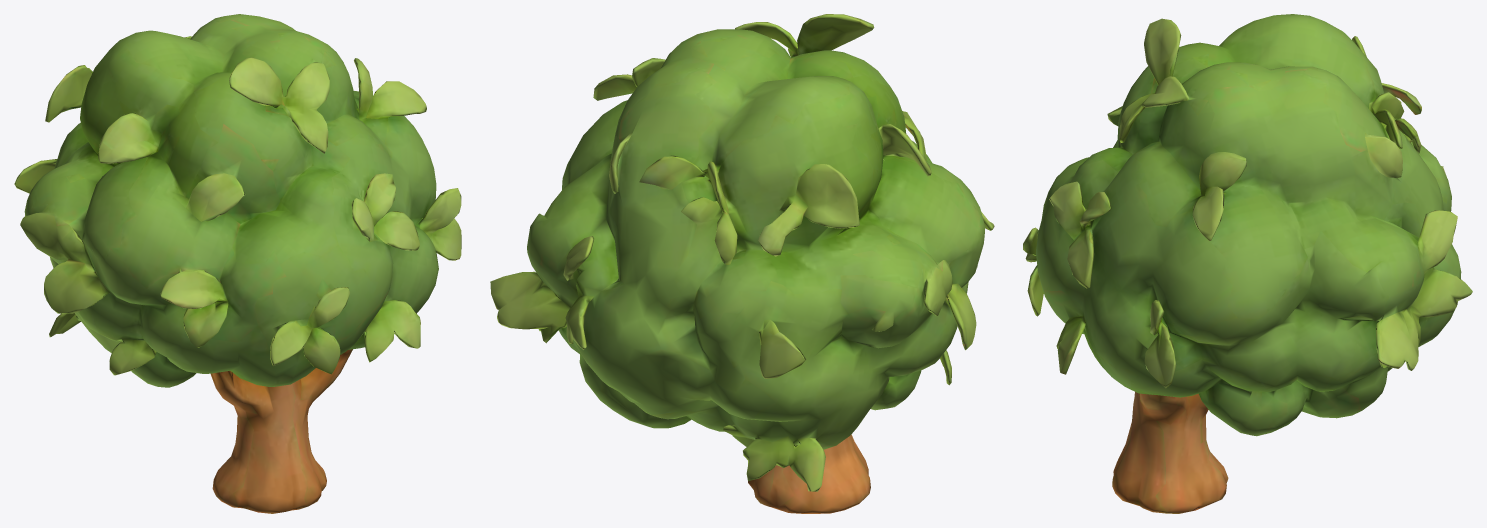
The model's file is tangerine.glb.
The picture shows the model from 3 angles, left to right: view 1: azimuth 30°, elevation 25°; view 2: azimuth 150°, elevation 25°; view 3: azimuth 270°, elevation 25°; orthographic projection. The views are drawn at different scales.
Parts seen in each view (by area): view 1: textured_mesh.obj; view 2: textured_mesh.obj; view 3: textured_mesh.obj.
Boxes of the visible parts, x1,y1,x2,y2 form: textured_mesh.obj: [14, 14, 461, 513]; textured_mesh.obj: [490, 14, 994, 513]; textured_mesh.obj: [1023, 14, 1472, 513].
Size of what is drawn, in the model's own units: 2.6 by 2.9 by 2.59.
Materials: 1 (1 with a texture image).
